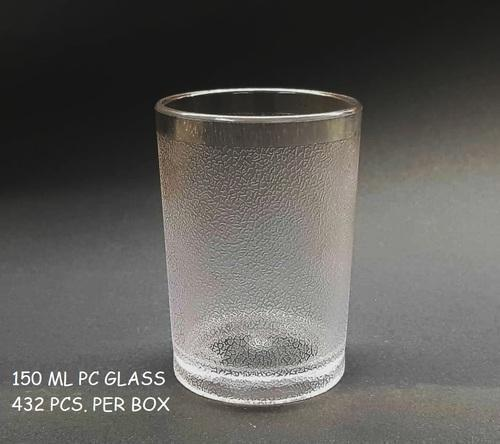glass-normal: (152, 87, 363, 406)
